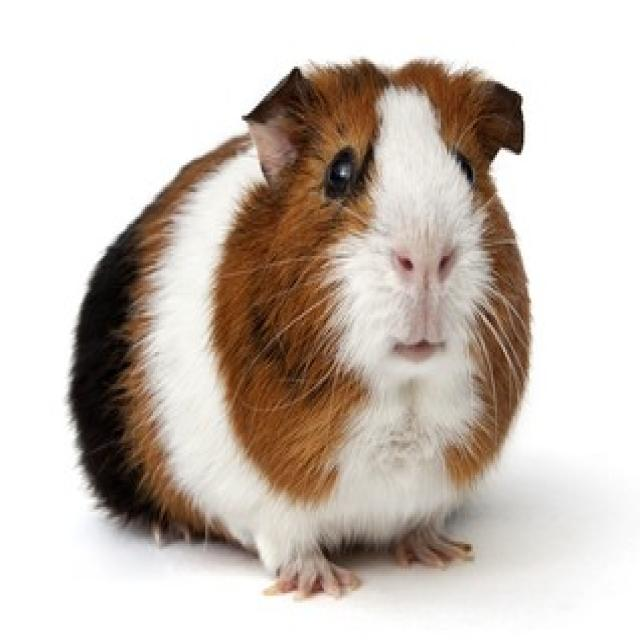guinea pig: (72, 62, 533, 592)
